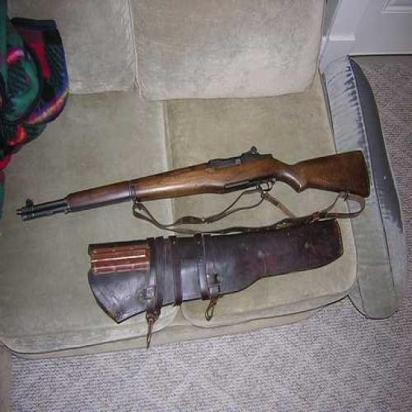Gun: (19, 85, 372, 257)
